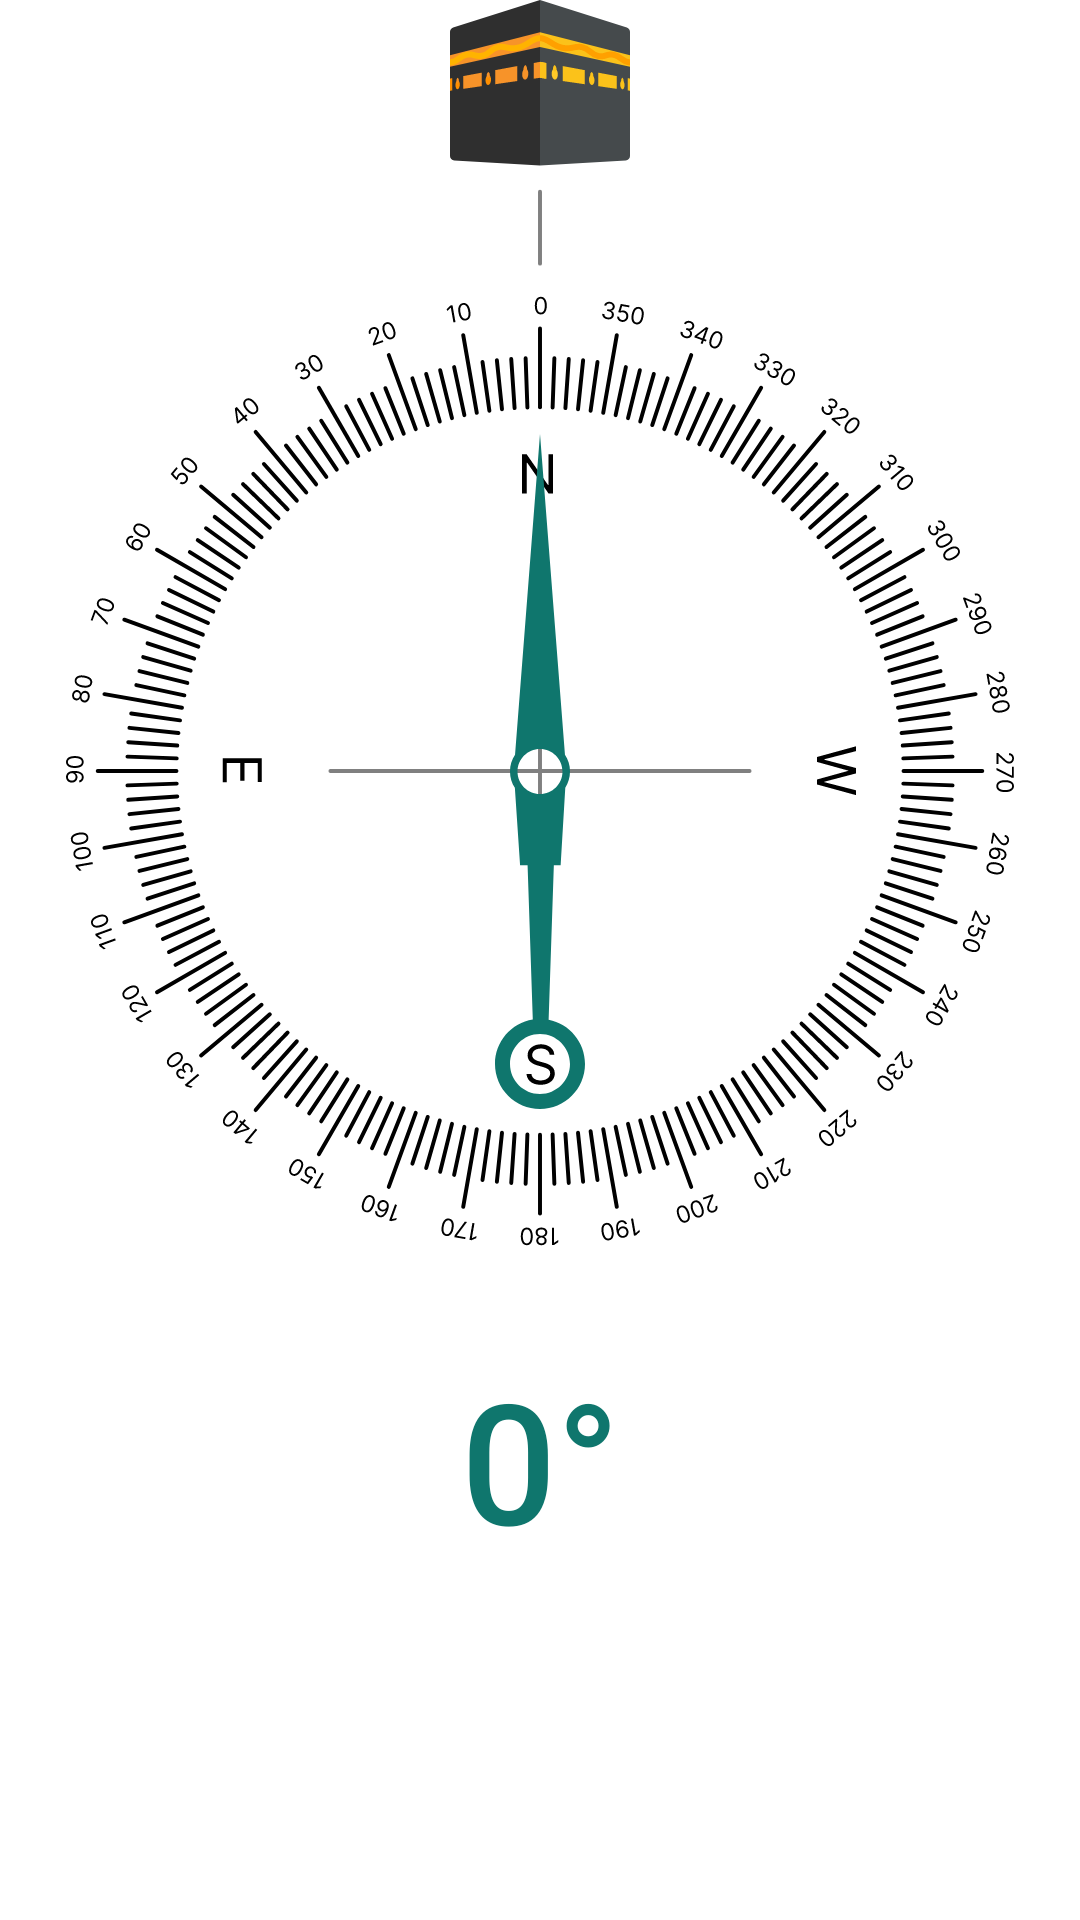

Named icons in this screenshot (1080px×1920px) and their centers, [x,y]:
kaaba indicator: [540,133]
